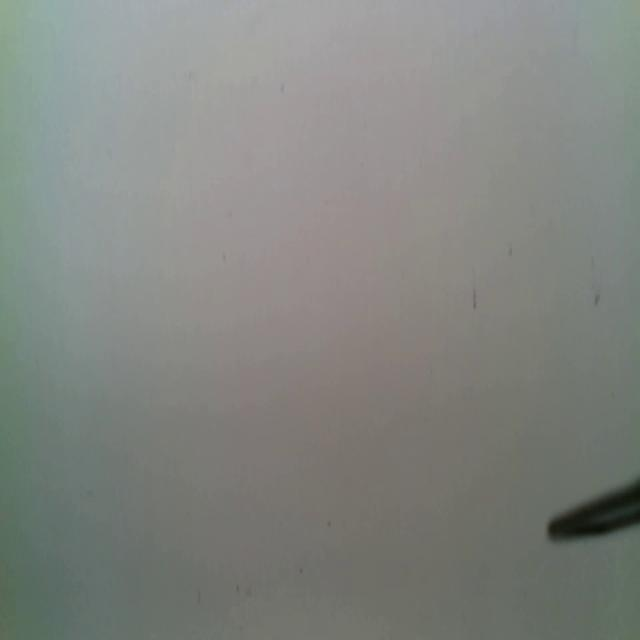hole: (471, 275, 478, 313), (505, 238, 515, 260), (593, 288, 602, 310), (221, 248, 228, 267), (278, 82, 286, 98)
